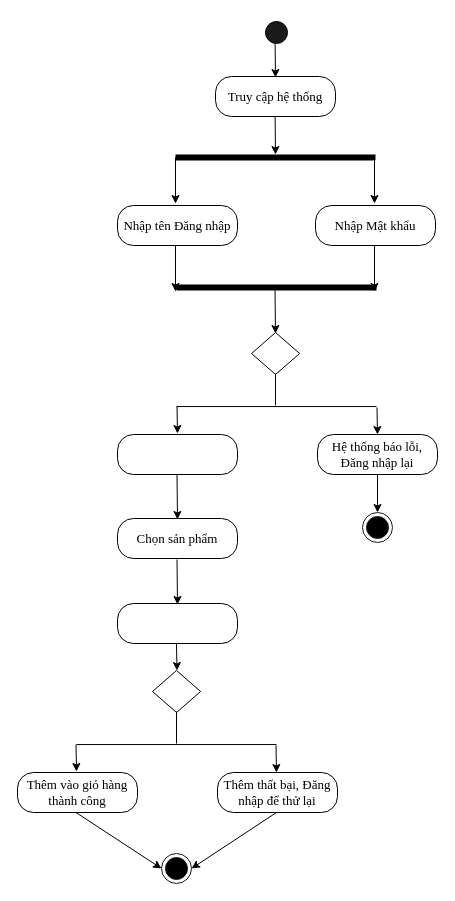
This 455x901 diagram has some shape labels left out. Here are the shapes that lost their labels. From the top down, the centre of each, then its label:
(x=177, y=454): Đăng nhập thành công vào hệ thống
(x=177, y=623): Thêm vào giỏ hàng
